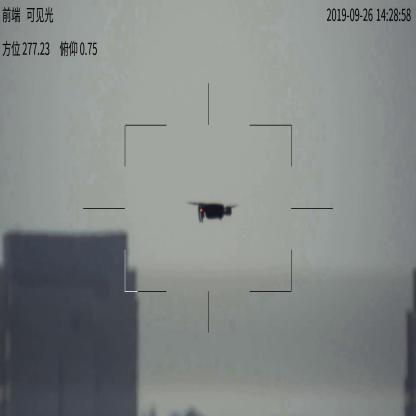uav: (183, 195, 240, 223)
